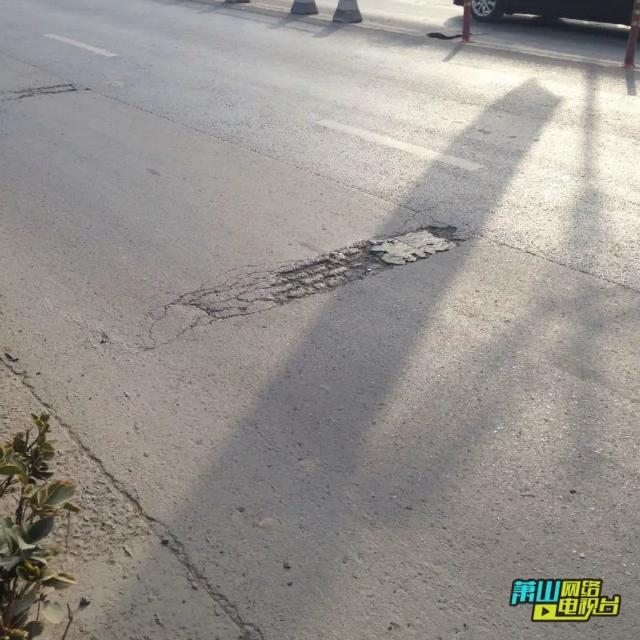Pothole: (154, 226, 464, 323), (1, 83, 80, 105)
